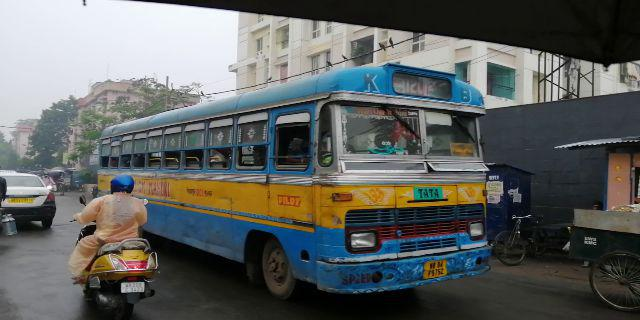Bus: (101, 68, 498, 278)
Car: (1, 170, 58, 233)
Motorbike: (74, 180, 165, 310)
